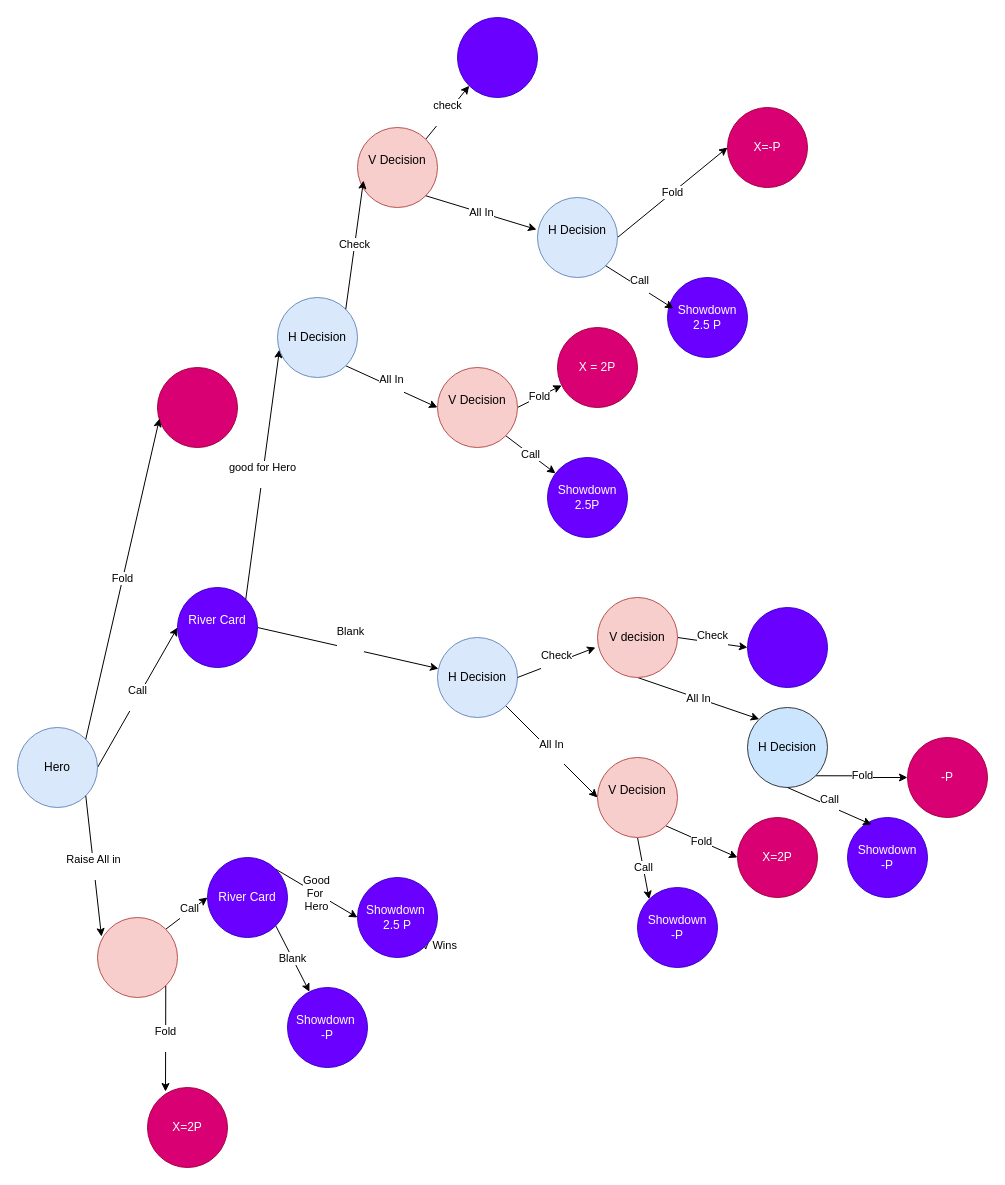
Some shapes in this 1005 by 1185 pixel diagram are drawn without their labels. Each missing label, with the box of its shape:
Showdown -.4 P: (746, 606, 828, 688)
Showdown 1.7 P: (456, 16, 538, 98)
Villian: (96, 916, 178, 998)
X=0: (156, 366, 238, 448)
